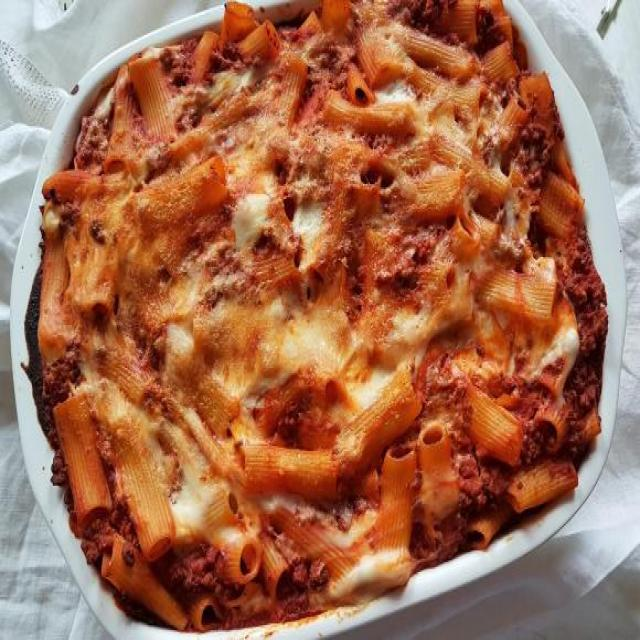Pasta al ragu: (71, 23, 597, 563)
